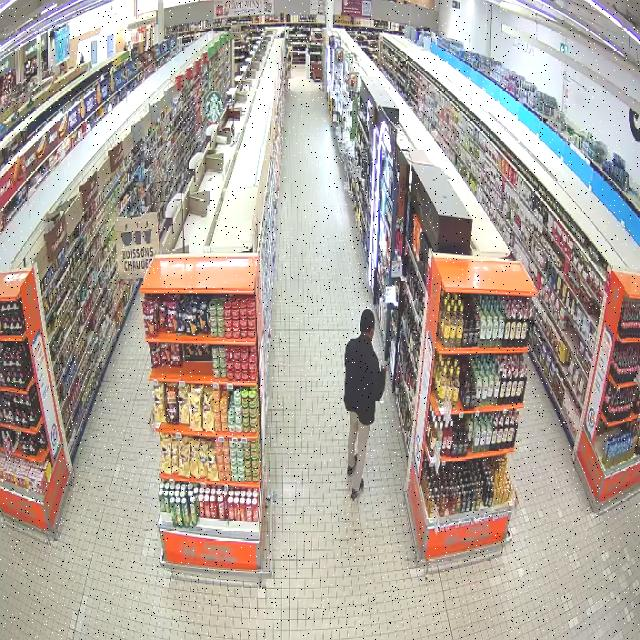article: (380, 386, 385, 404)
hands: (380, 363, 387, 372)
person: (344, 309, 385, 499)
